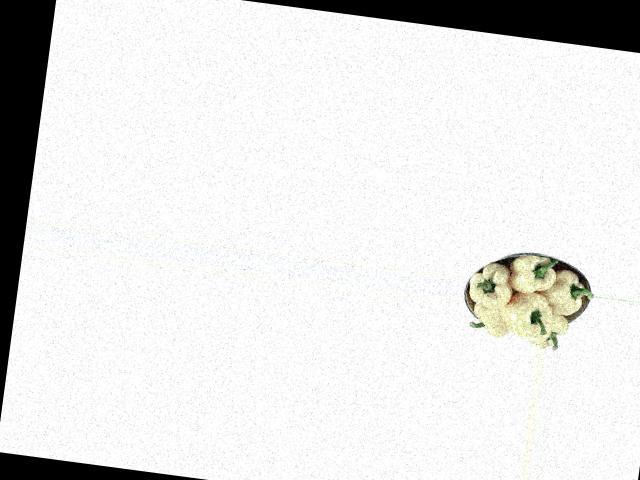bell_pepper: (528, 307, 574, 351)
